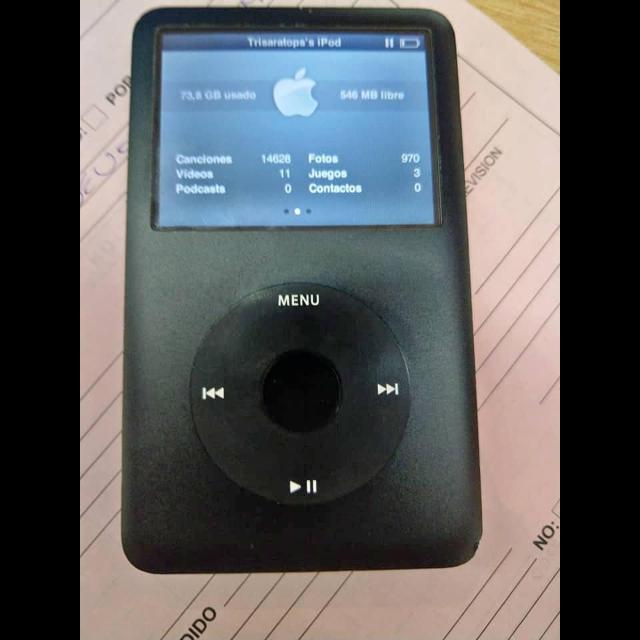Music-Player: (109, 0, 495, 578)
